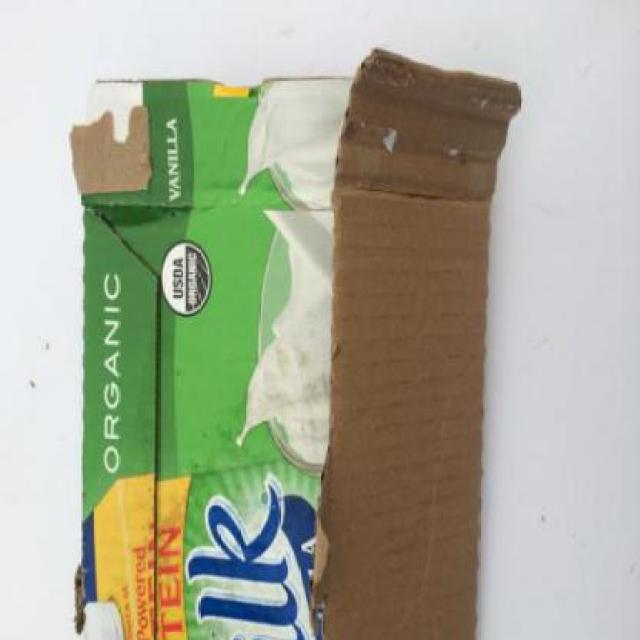box: (63, 48, 549, 640)
